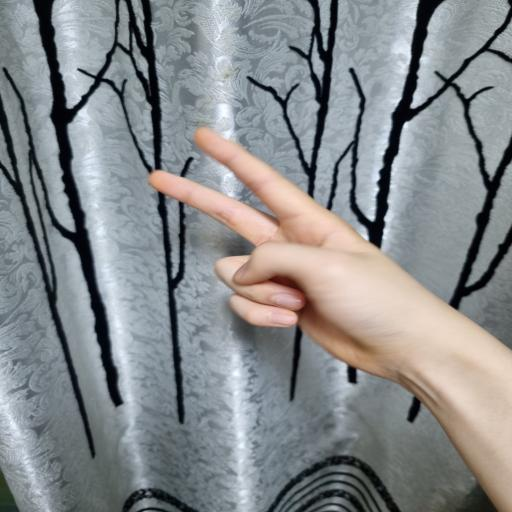Scissors: (148, 127, 512, 511)
